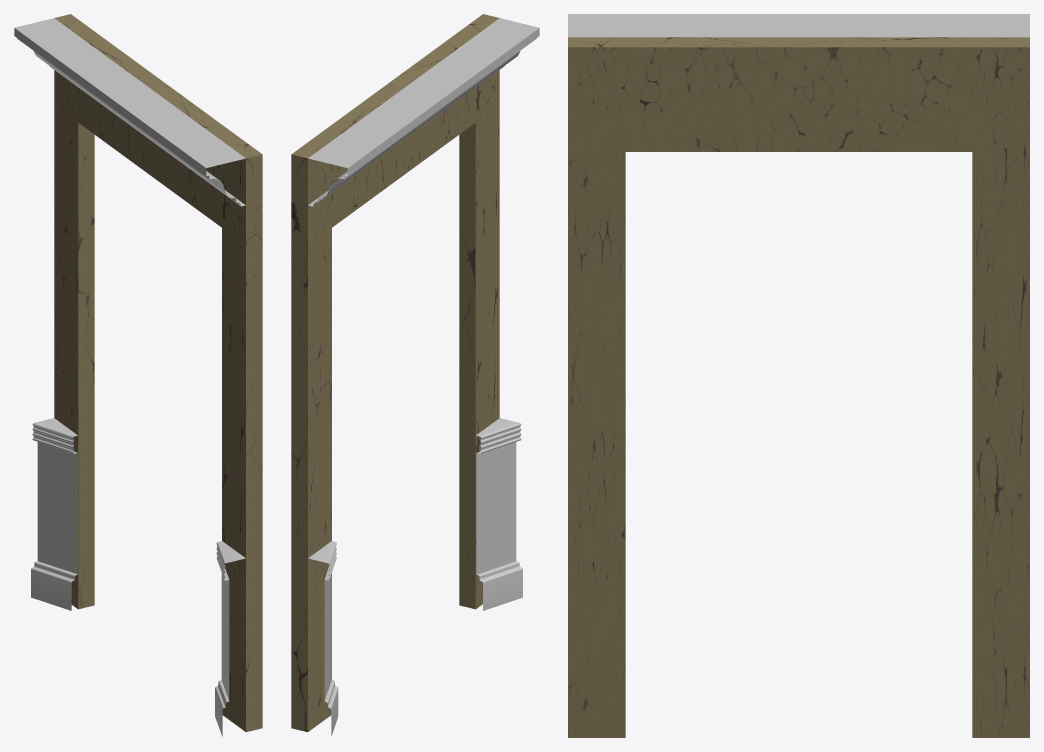
The model's file is Wall_2m_Doorway_B2 1.fbx.
3 views of the same model, side by side, from view 1: azimuth 30°, elevation 25°; view 2: azimuth 150°, elevation 25°; view 3: azimuth 270°, elevation 25° (orthographic). The views are drawn at different scales.
Visible parts, largest first — view 1: Wall_2m_Doorway_B.001; view 2: Wall_2m_Doorway_B.001; view 3: Wall_2m_Doorway_B.001.
Boxes of the visible parts, <box> form: Wall_2m_Doorway_B.001: <box>14,14,262,736</box>; Wall_2m_Doorway_B.001: <box>291,14,539,736</box>; Wall_2m_Doorway_B.001: <box>568,14,1029,737</box>.
Bounding box in the file's own units: 0.3409 × 3.3 × 2.
